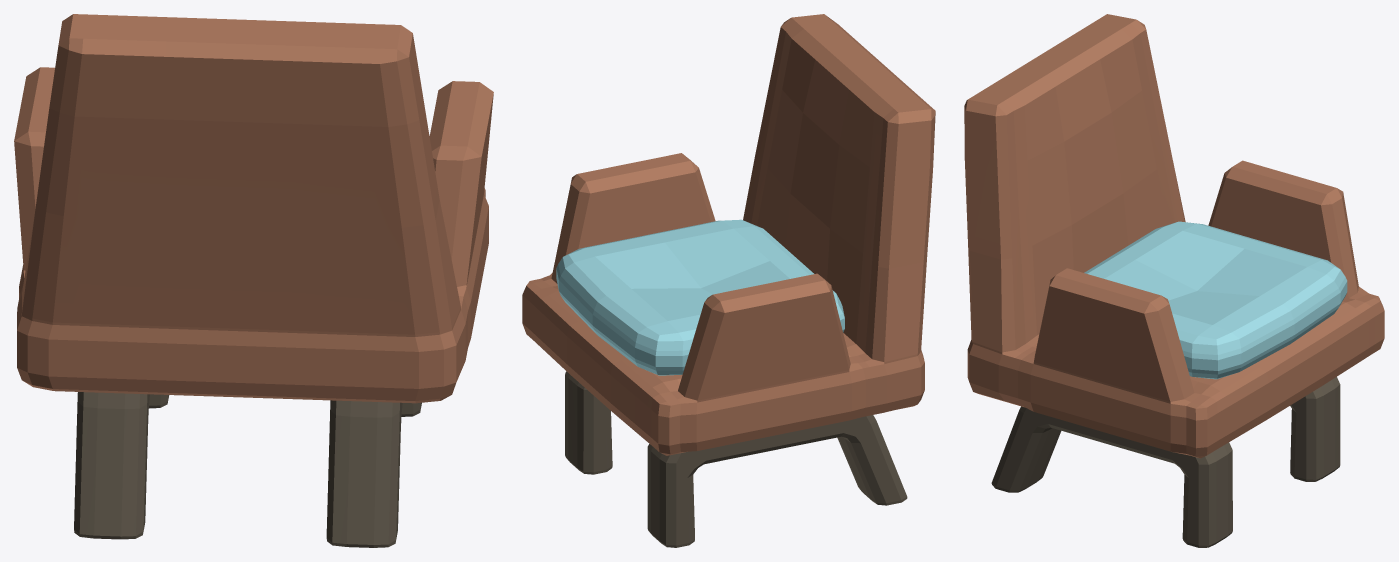
The model's file is Bedroom_Chair.fbx.
3 renders of one model, left to right at view 1: azimuth 30°, elevation 25°; view 2: azimuth 150°, elevation 25°; view 3: azimuth 270°, elevation 25°, orthographic. The views are drawn at different scales.
Parts seen in each view (by area): view 1: Bedroom_Chair.002, Bedroom_Chair.001; view 2: Bedroom_Chair.002, Bedroom_Chair, Bedroom_Chair.001; view 3: Bedroom_Chair.002, Bedroom_Chair, Bedroom_Chair.001.
Boxes of the visible parts, x1,y1,x2,y2 form: Bedroom_Chair.002: (14,14,493,403); Bedroom_Chair.001: (74,392,421,547); Bedroom_Chair.002: (522,14,935,455); Bedroom_Chair: (556,219,844,375); Bedroom_Chair.001: (565,371,907,547); Bedroom_Chair.002: (964,14,1384,458); Bedroom_Chair: (1084,221,1347,379); Bedroom_Chair.001: (991,377,1340,547).
Bounding box in the file's own units: 107 × 109 × 109.
